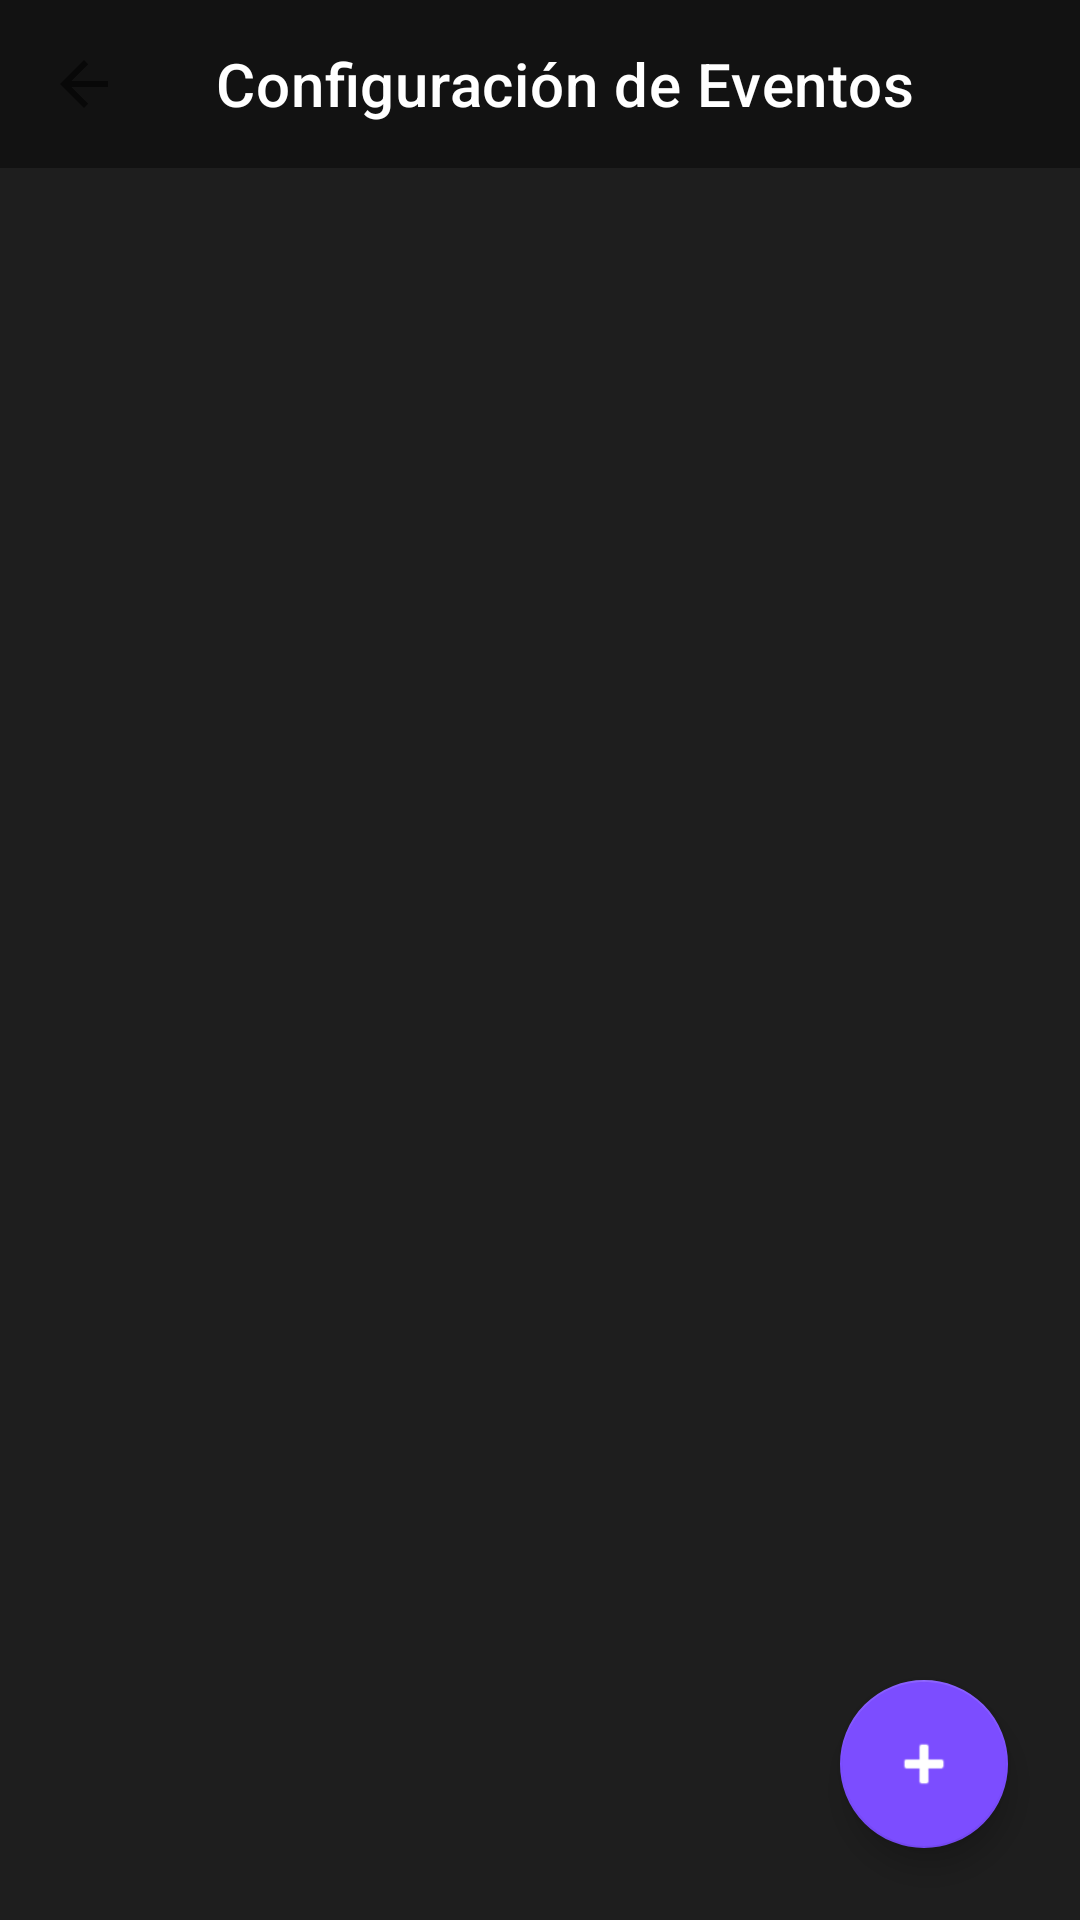

Named icons in this screenshot (1080x1920) and their centers, (x=x, y=y):
Añadir Evento: (x=924, y=1764)
